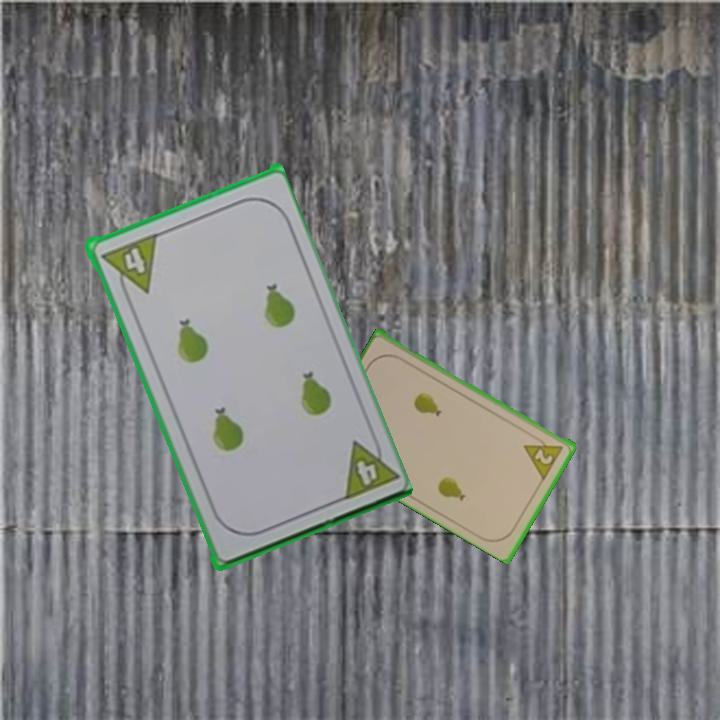2p: (520, 432, 567, 481)
4p: (336, 429, 399, 504), (96, 230, 160, 302)
